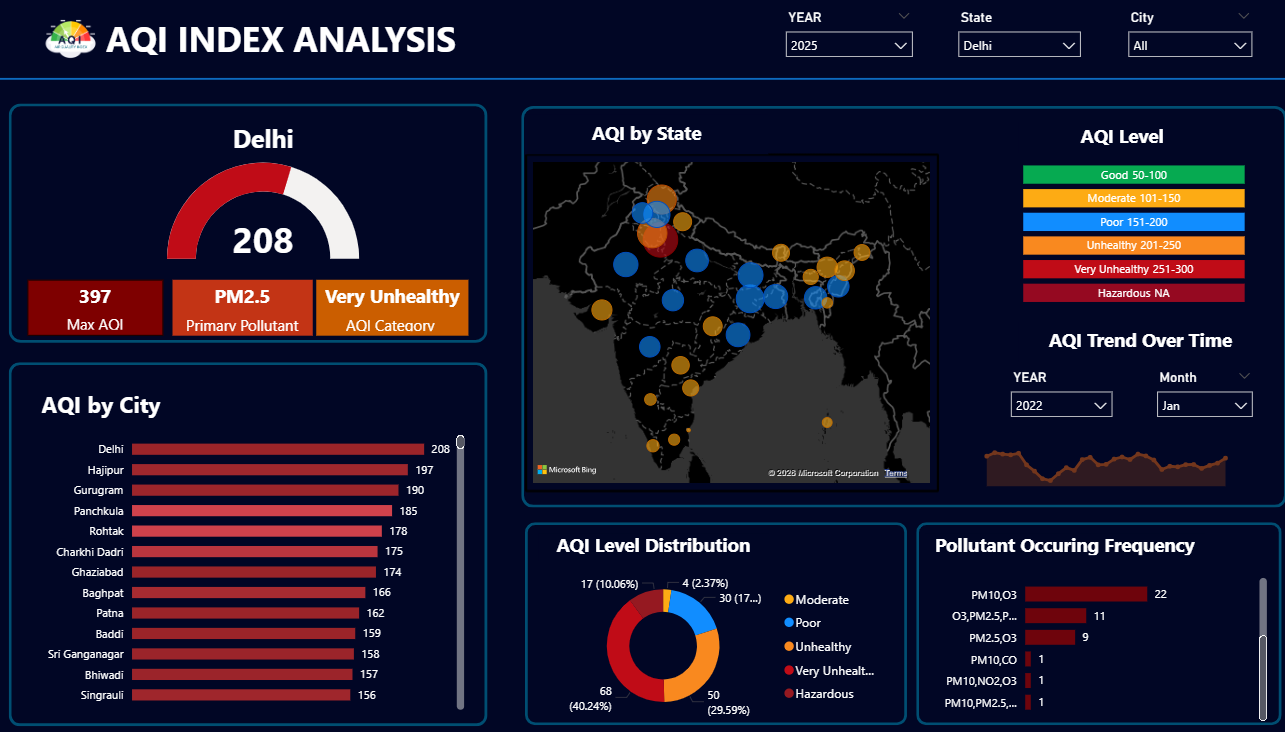

The dashboard page shown, as its layout file describes it:
{"tool":"powerbi","page":{"name":"AQI INDEX ANALYSIS","canvas":[1400,800],"ordinal":0},"visuals":[{"type":"shape","box":[25.5,120.1,513.3,256.6],"z":0},{"type":"textbox","box":[124.6,19.5,394.7,64.5],"z":1000},{"type":"image","box":[13.5,25.5,156.1,52.5],"z":2000},{"type":"gauge","fields":{"Y":["day_wise_aqi_data.Avg AQI"]},"box":[190.6,174.1,216.1,123.1],"z":3000},{"type":"slicer","fields":{"Values":["Calender Table.YEAR"]},"box":[848,15,156.1,58.5],"z":4000},{"type":"slicer","fields":{"Values":["day_wise_aqi_data.state"]},"box":[1034.1,15,151.6,58.5],"z":5000},{"type":"slicer","fields":{"Values":["day_wise_aqi_data.area"]},"box":[1215.7,15,153.1,58.5],"z":6000},{"type":"card","fields":{"Values":["Max(day_wise_aqi_data.aqi_value)"]},"box":[45,309.2,145.6,60],"z":7000},{"type":"card","fields":{"Values":["day_wise_aqi_data.Primary Pollutant"]},"box":[201.1,309.2,150.1,60],"z":8000},{"type":"card","fields":{"Values":["day_wise_aqi_data.AQI Category KPI"]},"box":[355.7,309.2,163.6,60],"z":9000},{"type":"cardVisual","fields":{"Data":["day_wise_aqi_data.KPI Title"]},"box":[78,132.1,441.3,42],"z":10000},{"type":"shape","box":[574.8,123.1,821,430.7],"z":11000},{"type":"map","fields":{"Category":["day_wise_aqi_data.state"],"Size":["day_wise_aqi_data.Avg AQI"]},"box":[579.3,174.1,444.3,363.2],"z":12000},{"type":"card","fields":{"Values":["day_wise_aqi_data.State Map Title"]},"box":[579.3,132.1,261.2,42],"z":13000},{"type":"barChart","fields":{"Category":["day_wise_aqi_data.AQI Category"],"Y":["day_wise_aqi_data.Level"]},"box":[1109.1,174.1,261.2,165.1],"z":14000},{"type":"card","fields":{"Values":["day_wise_aqi_data.AQI Level Title"]},"box":[1109.1,141.1,222.1,33],"z":15000},{"type":"areaChart","fields":{"Category":["Calender Table.Date.Variation.Date Hierarchy.Day"],"Y":["day_wise_aqi_data.Avg AQI"]},"box":[1050.6,463.8,328.7,73.5],"z":16000},{"type":"slicer","fields":{"Values":["Calender Table.YEAR"]},"box":[1089.6,400.7,129.1,63],"z":17000},{"type":"slicer","fields":{"Values":["Calender Table.Month"]},"box":[1247.2,400.7,123.1,63],"z":18000},{"type":"card","fields":{"Values":["day_wise_aqi_data.Title for Monthly Chart"]},"box":[1109.1,355.7,261.2,42],"z":19000},{"type":"shape","box":[25.5,397.7,513.3,390.2],"z":20000},{"type":"barChart","fields":{"Category":["day_wise_aqi_data.area"],"Y":["day_wise_aqi_data.Avg AQI"]},"box":[39,463.8,480.3,312.2],"z":21000},{"type":"cardVisual","fields":{"Data":["day_wise_aqi_data.Title by City"]},"box":[39,412.7,171.1,51],"z":22000},{"type":"shape","box":[579.3,570.3,409.7,217.6],"z":23000},{"type":"donutChart","fields":{"Category":["day_wise_aqi_data.AQI Category"],"Y":["day_wise_aqi_data.Count of Rows"]},"box":[594.3,616.9,378.2,171.1],"z":24000},{"type":"card","fields":{"Values":["day_wise_aqi_data.Donut Title"]},"box":[594.3,582.3,246.1,28.5],"z":25000},{"type":"shape","box":[998.1,570.3,391.7,217.6],"z":26000},{"type":"barChart","fields":{"Y":["day_wise_aqi_data.Count of Rows"],"Category":["day_wise_aqi_data.prominent_pollutants"]},"box":[1010.1,616.9,369.2,171.1],"z":27000},{"type":"card","fields":{"Values":["day_wise_aqi_data.Pollutant Title"]},"box":[1008.6,582.3,300.2,28.5],"z":28000},{"type":"shape","box":[13.5,84,1382.3,19.5],"z":29000}]}

Visuals, with their boxes in screenshot pixels (x1, y1, x2, y2), scaled from the page's 1400x800 canvas onto the 1285x732 screenshot:
shape: x1=23, y1=110, x2=495, y2=345
textbox: x1=114, y1=18, x2=477, y2=77
image: x1=12, y1=23, x2=156, y2=71
gauge - day_wise_aqi_data.Avg AQI: x1=175, y1=159, x2=373, y2=272
slicer - Calender Table.YEAR: x1=778, y1=14, x2=922, y2=67
slicer - day_wise_aqi_data.state: x1=949, y1=14, x2=1088, y2=67
slicer - day_wise_aqi_data.area: x1=1116, y1=14, x2=1256, y2=67
card - Max(day_wise_aqi_data.aqi_value): x1=41, y1=283, x2=175, y2=338
card - day_wise_aqi_data.Primary Pollutant: x1=185, y1=283, x2=322, y2=338
card - day_wise_aqi_data.AQI Category KPI: x1=326, y1=283, x2=477, y2=338
cardVisual - day_wise_aqi_data.KPI Title: x1=72, y1=121, x2=477, y2=159
shape: x1=528, y1=113, x2=1281, y2=507
map - day_wise_aqi_data.state x day_wise_aqi_data.Avg AQI: x1=532, y1=159, x2=940, y2=492
card - day_wise_aqi_data.State Map Title: x1=532, y1=121, x2=771, y2=159
barChart - day_wise_aqi_data.AQI Category x day_wise_aqi_data.Level: x1=1018, y1=159, x2=1258, y2=310
card - day_wise_aqi_data.AQI Level Title: x1=1018, y1=129, x2=1222, y2=159
areaChart - Calender Table.Date.Variation.Date Hierarchy.Day x day_wise_aqi_data.Avg AQI: x1=964, y1=424, x2=1266, y2=492
slicer - Calender Table.YEAR: x1=1000, y1=367, x2=1119, y2=424
slicer - Calender Table.Month: x1=1145, y1=367, x2=1258, y2=424
card - day_wise_aqi_data.Title for Monthly Chart: x1=1018, y1=325, x2=1258, y2=364
shape: x1=23, y1=364, x2=495, y2=721
barChart - day_wise_aqi_data.area x day_wise_aqi_data.Avg AQI: x1=36, y1=424, x2=477, y2=710
cardVisual - day_wise_aqi_data.Title by City: x1=36, y1=378, x2=193, y2=424
shape: x1=532, y1=522, x2=908, y2=721
donutChart - day_wise_aqi_data.AQI Category x day_wise_aqi_data.Count of Rows: x1=545, y1=564, x2=893, y2=721
card - day_wise_aqi_data.Donut Title: x1=545, y1=533, x2=771, y2=559
shape: x1=916, y1=522, x2=1276, y2=721
barChart - day_wise_aqi_data.Count of Rows x day_wise_aqi_data.prominent_pollutants: x1=927, y1=564, x2=1266, y2=721
card - day_wise_aqi_data.Pollutant Title: x1=926, y1=533, x2=1201, y2=559
shape: x1=12, y1=77, x2=1281, y2=95
